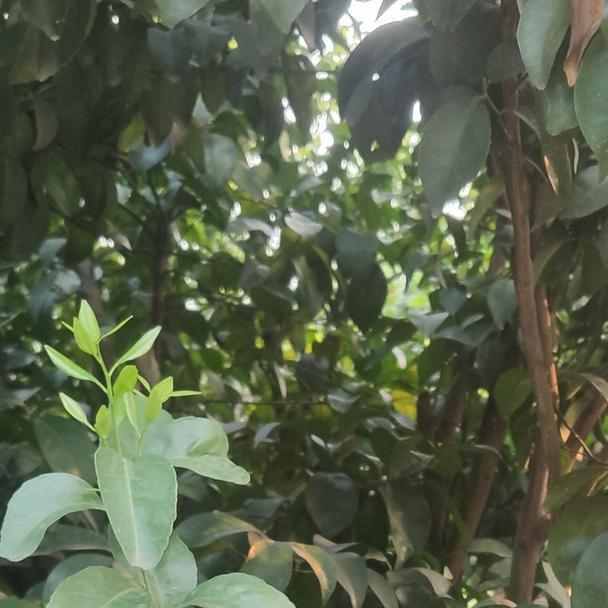shoot: (55, 298, 163, 433)
